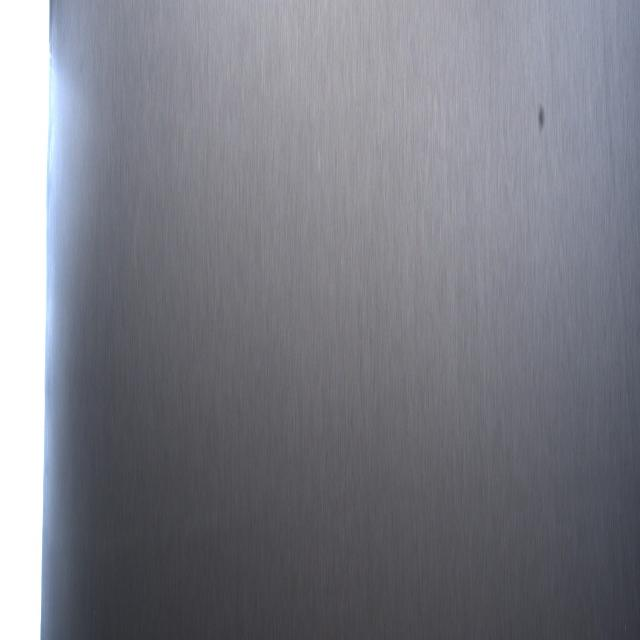crease: (604, 22, 639, 472), (149, 485, 259, 562)
whiteDefect: (316, 147, 322, 179)
